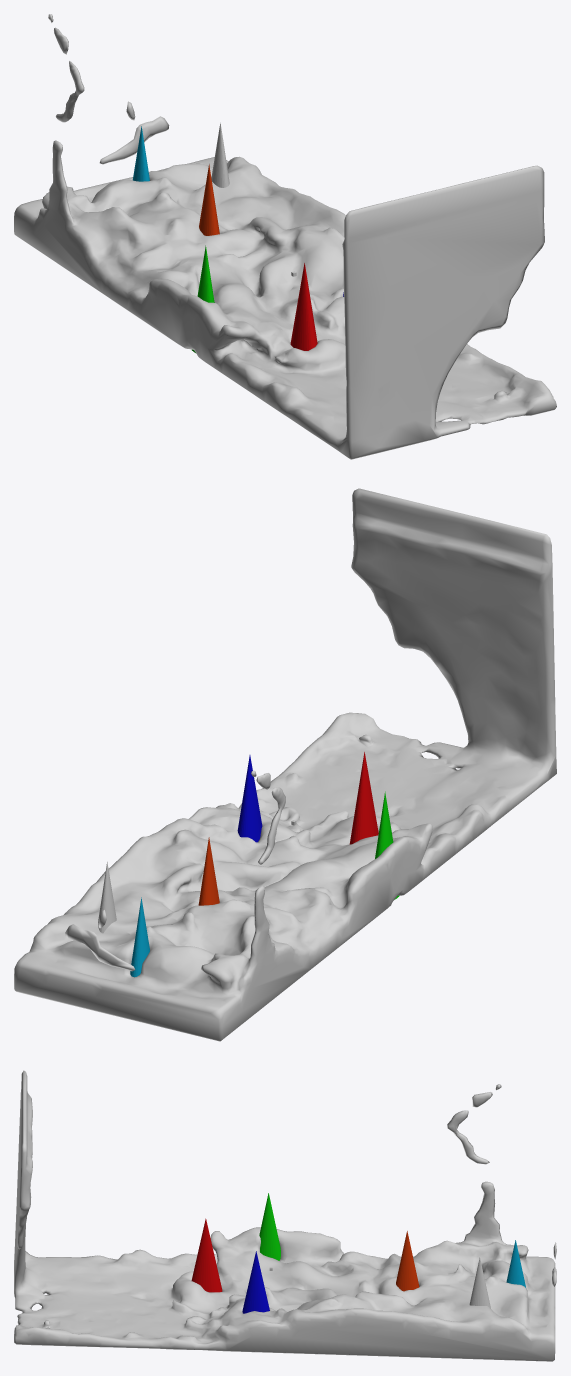
3 views of the same model, one above another, from view 1: azimuth 30°, elevation 25°; view 2: azimuth 150°, elevation 25°; view 3: azimuth 270°, elevation 25° (orthographic). The views are drawn at different scales.
Parts seen in each view (by area): view 1: Liquid_Domain, 円錐.001, 円錐.004, 円錐; view 2: Liquid_Domain, 円錐.001, 円錐.002, 円錐.005, 円錐.004; view 3: Liquid_Domain, 円錐.001, 円錐.002, 円錐.003, 円錐.004, 円錐, 円錐.005.
Part boxes in pixels (left/top/right/bottom): Liquid_Domain: left=14, top=14, right=556, bottom=459; 円錐.001: left=290, top=263, right=317, bottom=350; 円錐.004: left=199, top=164, right=219, bottom=235; 円錐: left=211, top=122, right=229, bottom=187; Liquid_Domain: left=14, top=488, right=556, bottom=1041; 円錐.001: left=349, top=752, right=378, bottom=844; 円錐.002: left=237, top=755, right=262, bottom=842; 円錐.005: left=130, top=897, right=149, bottom=977; 円錐.004: left=198, top=837, right=219, bottom=905; Liquid_Domain: left=14, top=1070, right=556, bottom=1361; 円錐.001: left=191, top=1218, right=222, bottom=1292; 円錐.002: left=242, top=1251, right=269, bottom=1313; 円錐.003: left=259, top=1193, right=280, bottom=1260; 円錐.004: left=396, top=1231, right=419, bottom=1291; 円錐: left=469, top=1257, right=490, bottom=1308; 円錐.005: left=506, top=1240, right=525, bottom=1287.
Size of the model in its own units: 129 by 158 by 362.
